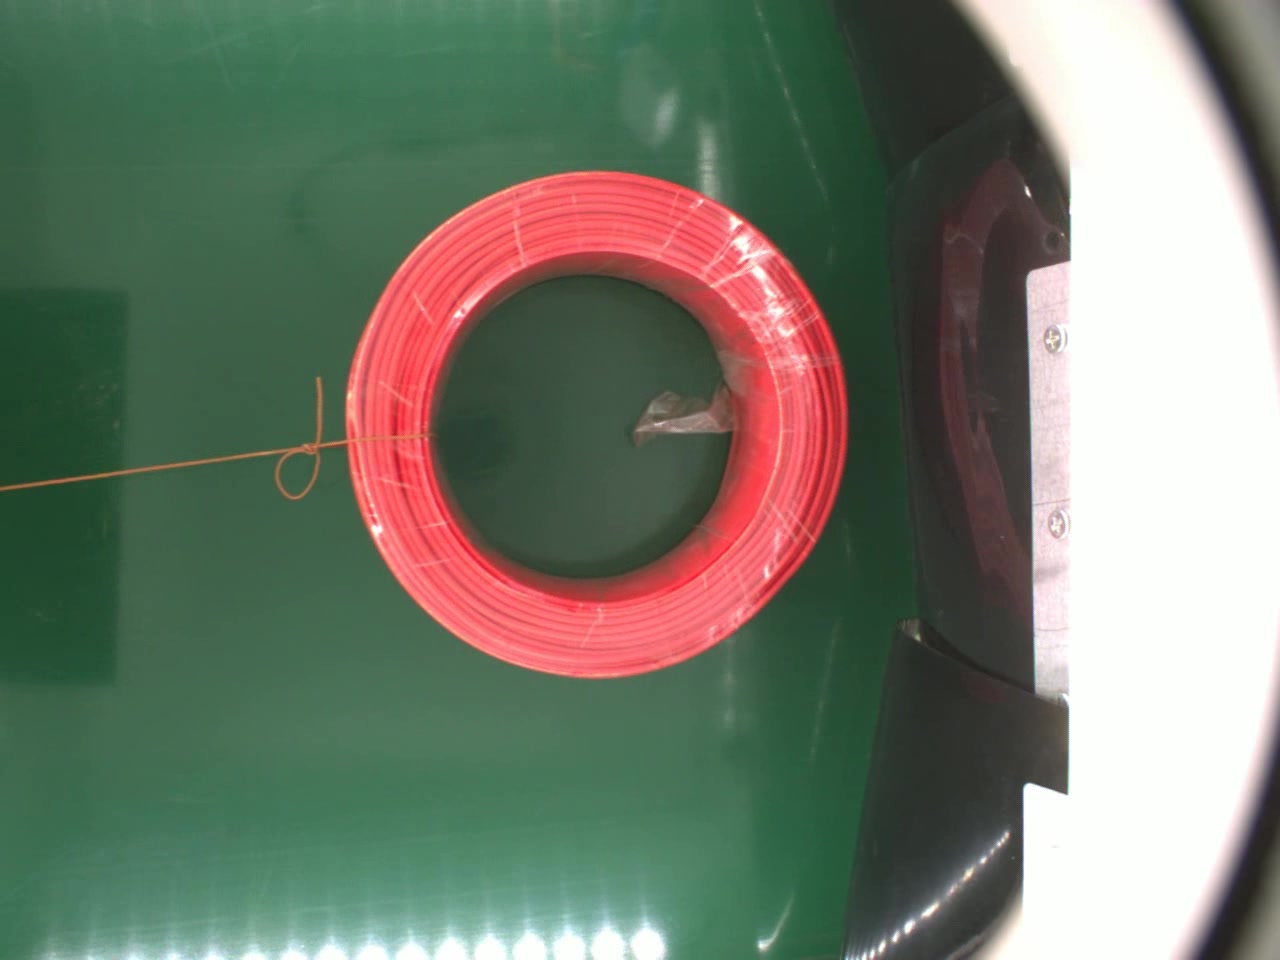red: (340, 168, 850, 676)
